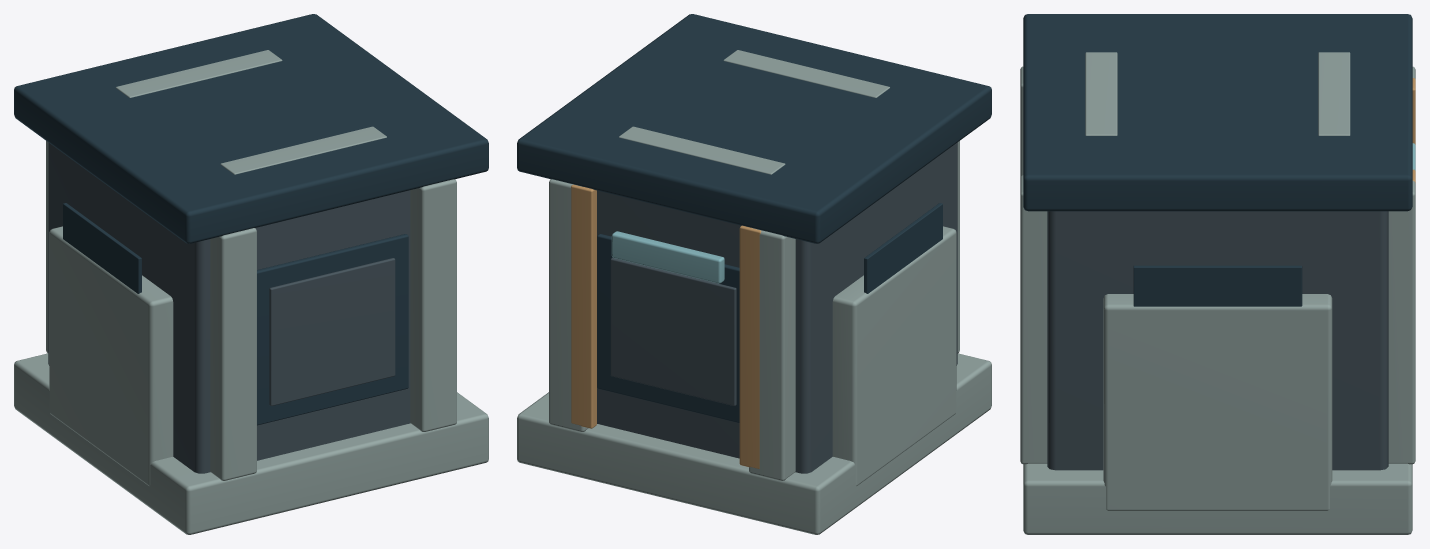
Rendered from receiver-1.glb.
3 renders of one model, left to right at view 1: azimuth 30°, elevation 25°; view 2: azimuth 150°, elevation 25°; view 3: azimuth 270°, elevation 25°, orthographic. The views are drawn at different scales.
Visible parts, largest first — view 1: receiver_1.001, receiver_2.001, receiver_0.001; view 2: receiver_2.001, receiver_1.001, receiver_0.001, receiver_3.001, receiver_4.001; view 3: receiver_1.001, receiver_2.001, receiver_0.001.
Boxes of the visible parts, left/top/right/bottom form: receiver_1.001: left=14, top=50, right=488, bottom=534; receiver_2.001: left=14, top=14, right=488, bottom=425; receiver_0.001: left=48, top=142, right=410, bottom=473; receiver_2.001: left=517, top=14, right=991, bottom=422; receiver_1.001: left=517, top=50, right=991, bottom=534; receiver_0.001: left=597, top=142, right=957, bottom=473; receiver_3.001: left=571, top=184, right=761, bottom=468; receiver_4.001: left=611, top=231, right=724, bottom=283; receiver_1.001: left=1020, top=52, right=1415, bottom=534; receiver_2.001: left=1023, top=14, right=1412, bottom=306; receiver_0.001: left=1047, top=211, right=1388, bottom=470.
Size of the model in its own units: 0.975 by 0.993 by 0.9855.
